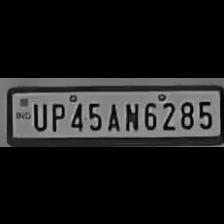2: (158, 98, 176, 130)
4: (66, 98, 84, 130)
5: (84, 98, 104, 130), (194, 96, 214, 128)
6: (140, 98, 158, 130)
8: (177, 97, 195, 129)
A: (104, 99, 120, 131)
N: (121, 98, 139, 130)
P: (47, 99, 65, 130)
U: (29, 98, 48, 130)
